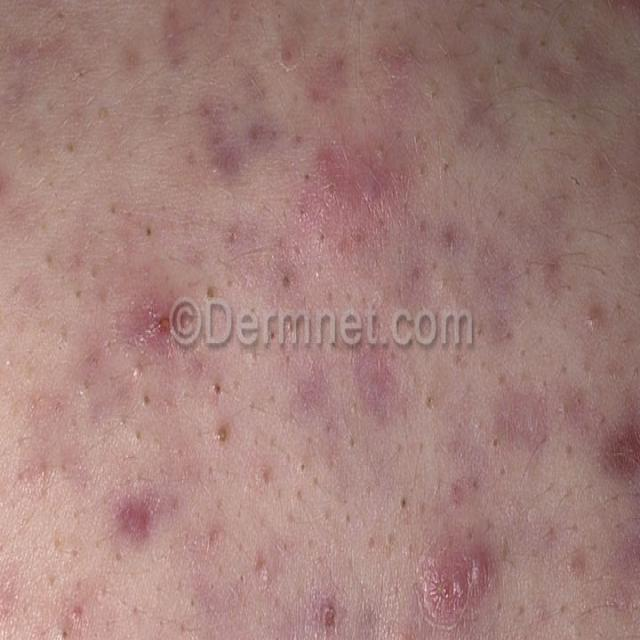acne: (379, 521, 507, 625), (578, 373, 640, 480), (130, 276, 190, 362), (98, 482, 164, 550)
